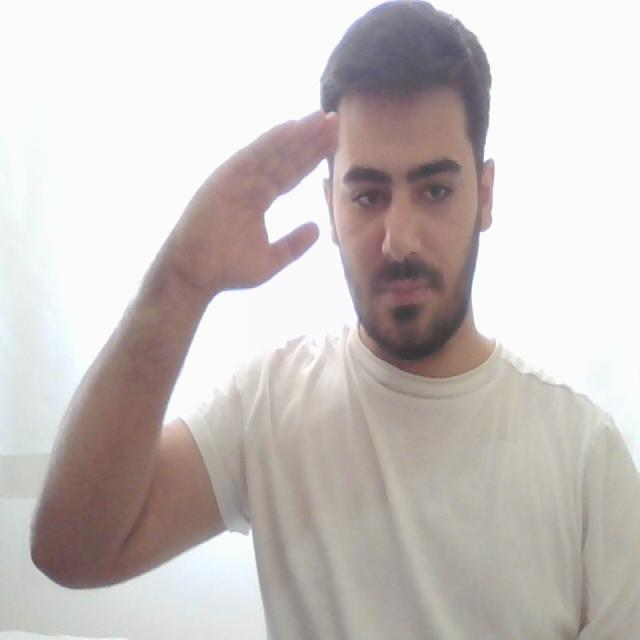Merhaba: (162, 68, 370, 340)
